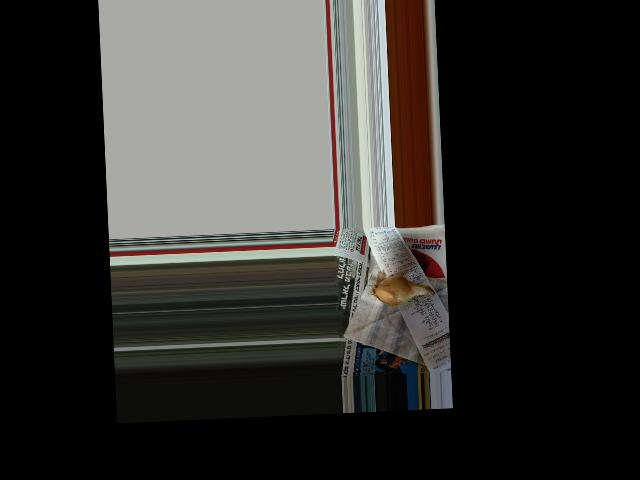onion: (377, 276, 419, 306)
